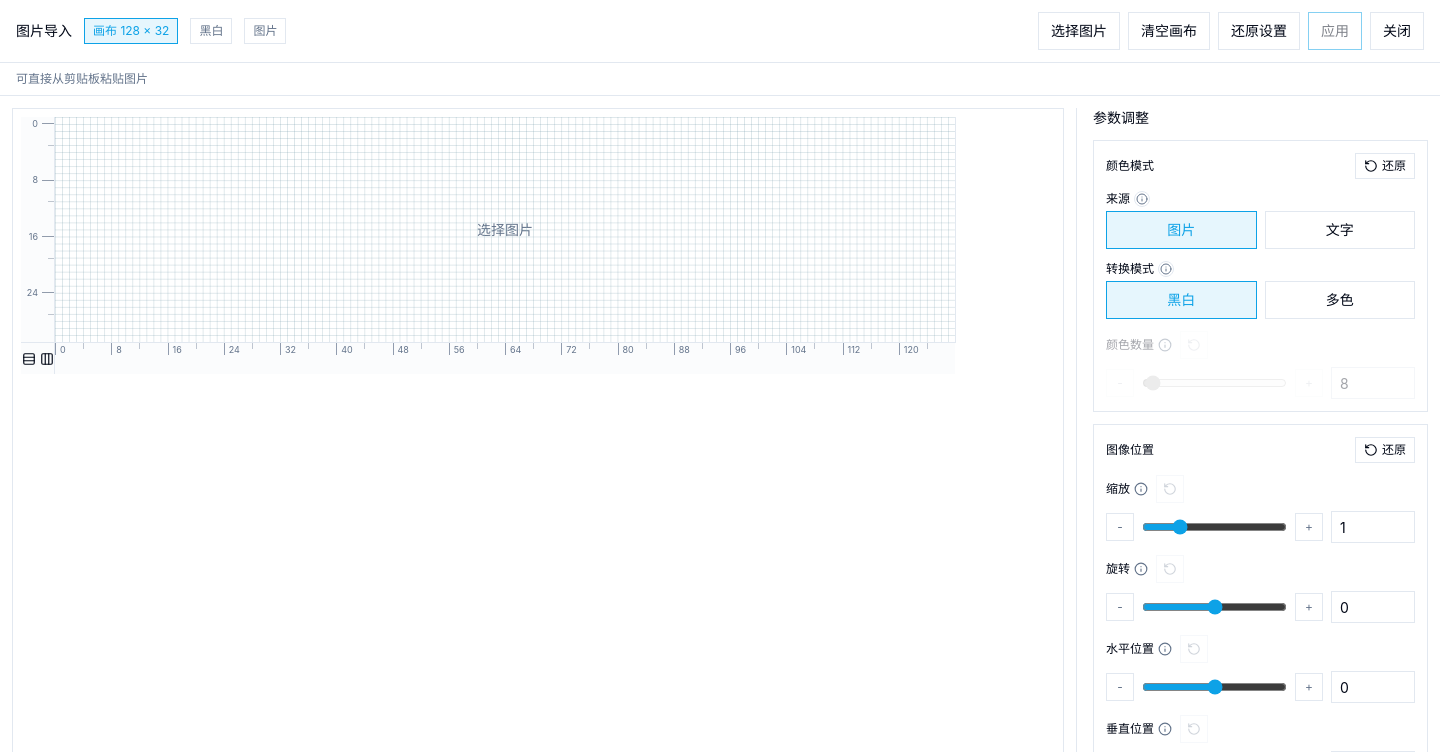
it: shows letter spacing control in text mode and regenerates the text source after changes
The width and height of the screenshot is (1440, 752).
Click the button "文字" at (1340, 230), box [1264,211,1415,249]
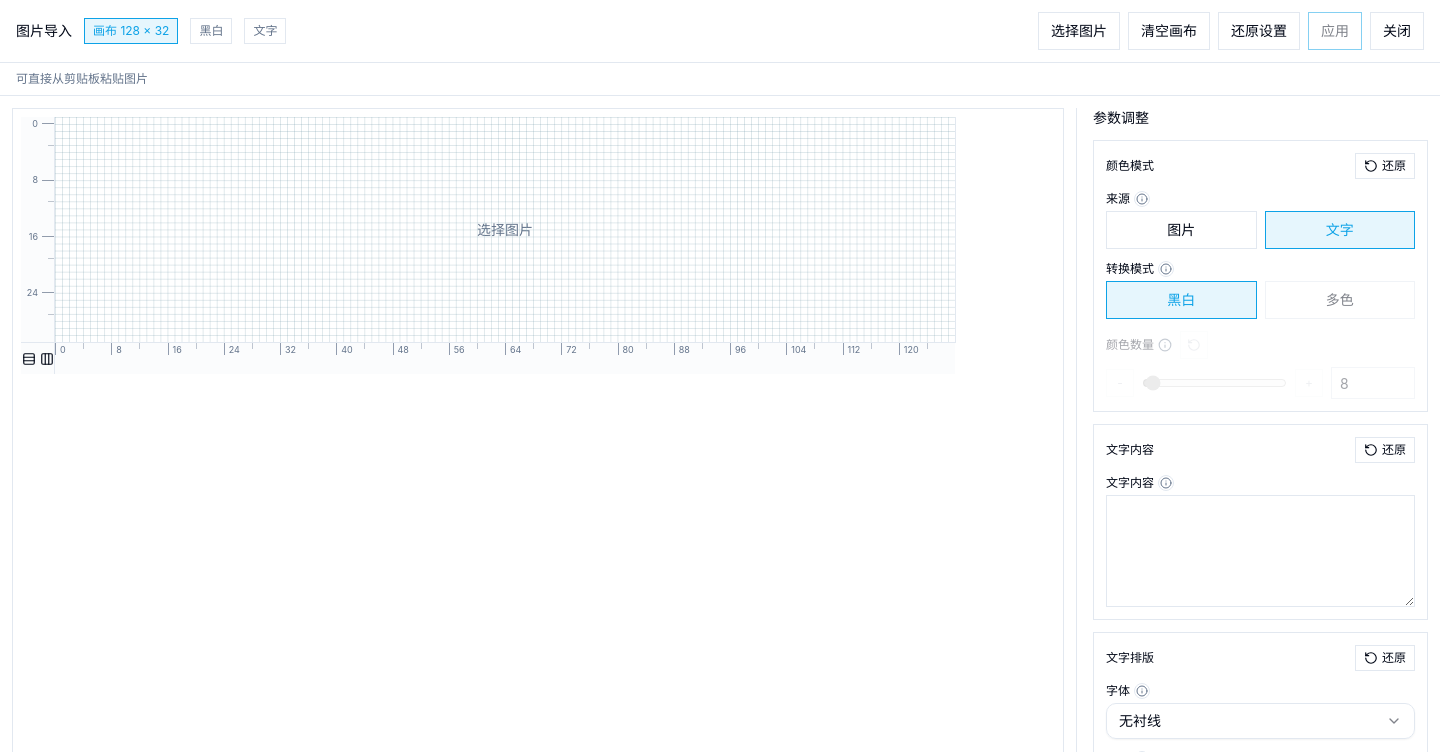
Type "AB" into the text box named "文字内容" at (1260, 551), box [1106,495,1415,607]
(page scrolled)
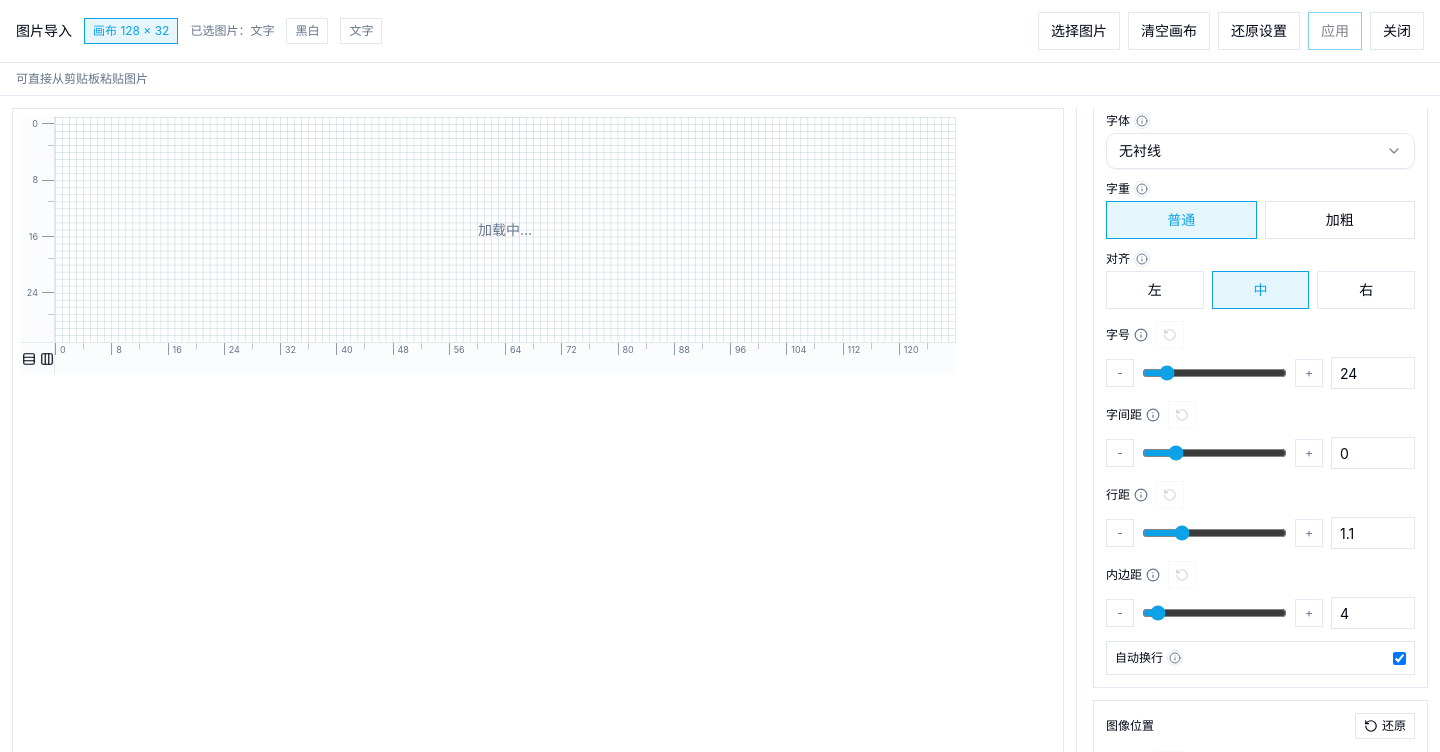
Set the slider named "字间距" to "0.5" at (1227, 453), box [1142,437,1287,469]
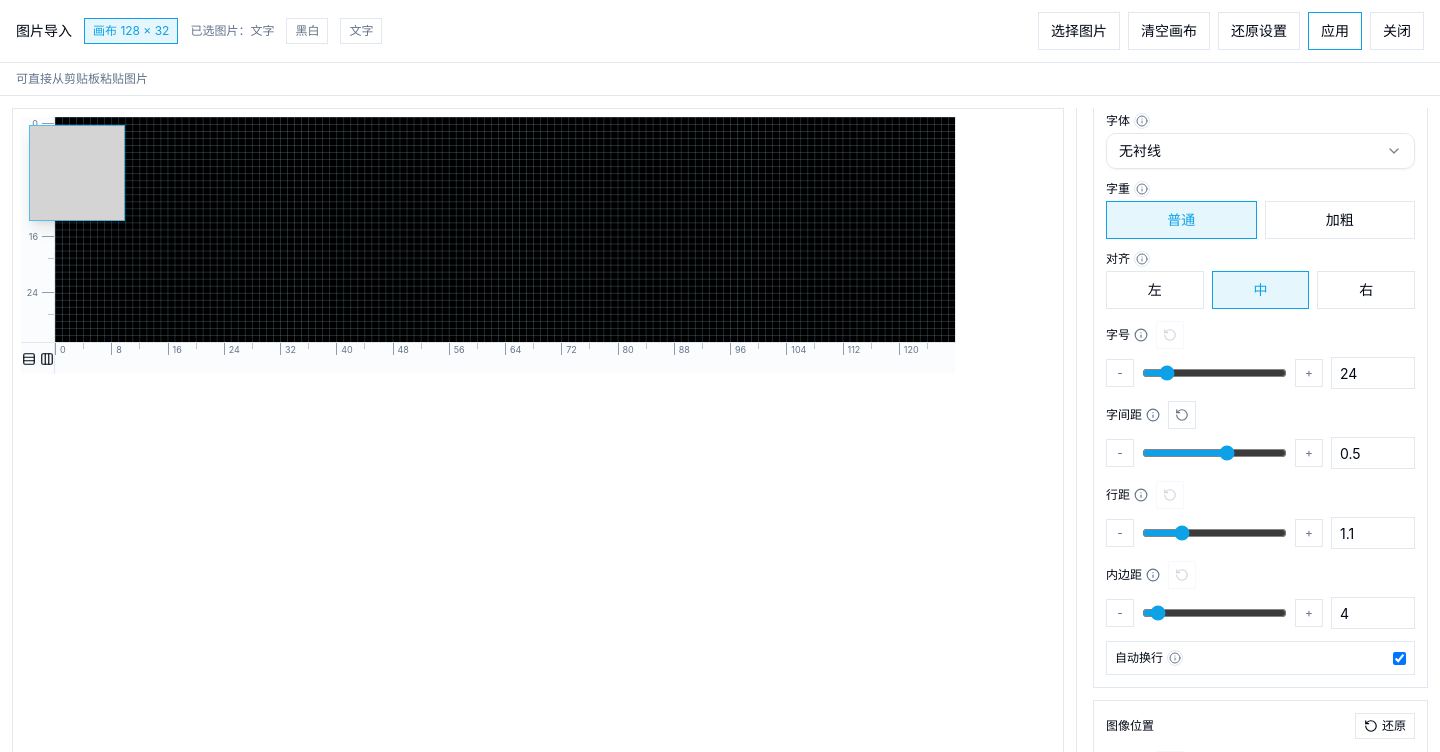
Result: the field named "字间距数值" holds "0.5" at [1331,437,1415,469]
